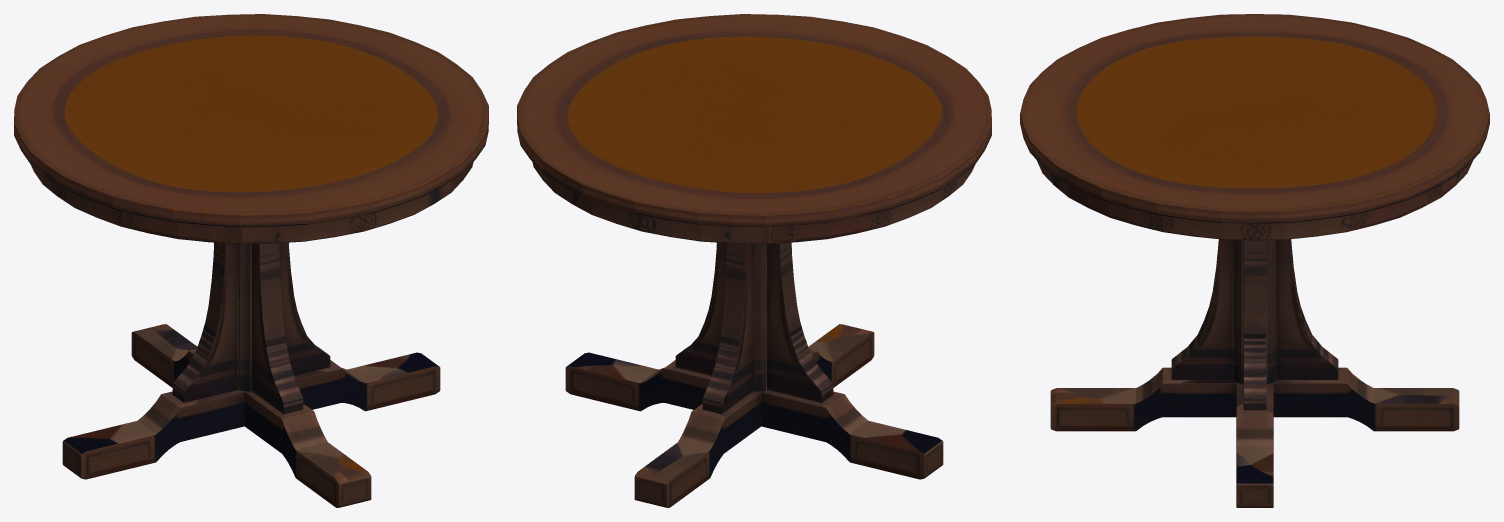
Rendered from edited_mesh.glb.
3 renders of one model, left to right at view 1: azimuth 30°, elevation 25°; view 2: azimuth 150°, elevation 25°; view 3: azimuth 270°, elevation 25°, orthographic.
Parts seen in each view (by area): view 1: normalized_model.obj; view 2: normalized_model.obj; view 3: normalized_model.obj.
Part boxes in pixels (x1,y1,x2,y2): normalized_model.obj: (14, 14, 488, 507); normalized_model.obj: (517, 14, 991, 507); normalized_model.obj: (1020, 14, 1489, 507).
Bounding box in the file's own units: 1.62 × 1.19 × 1.62.
Materials: 1 (1 with a texture image).
